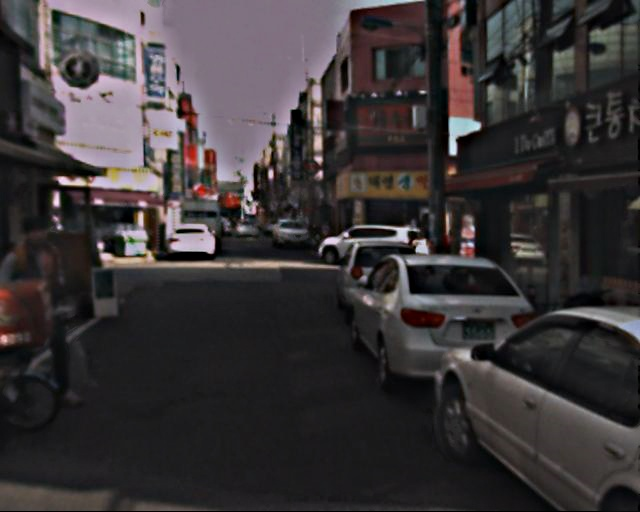person: (0, 211, 91, 408)
